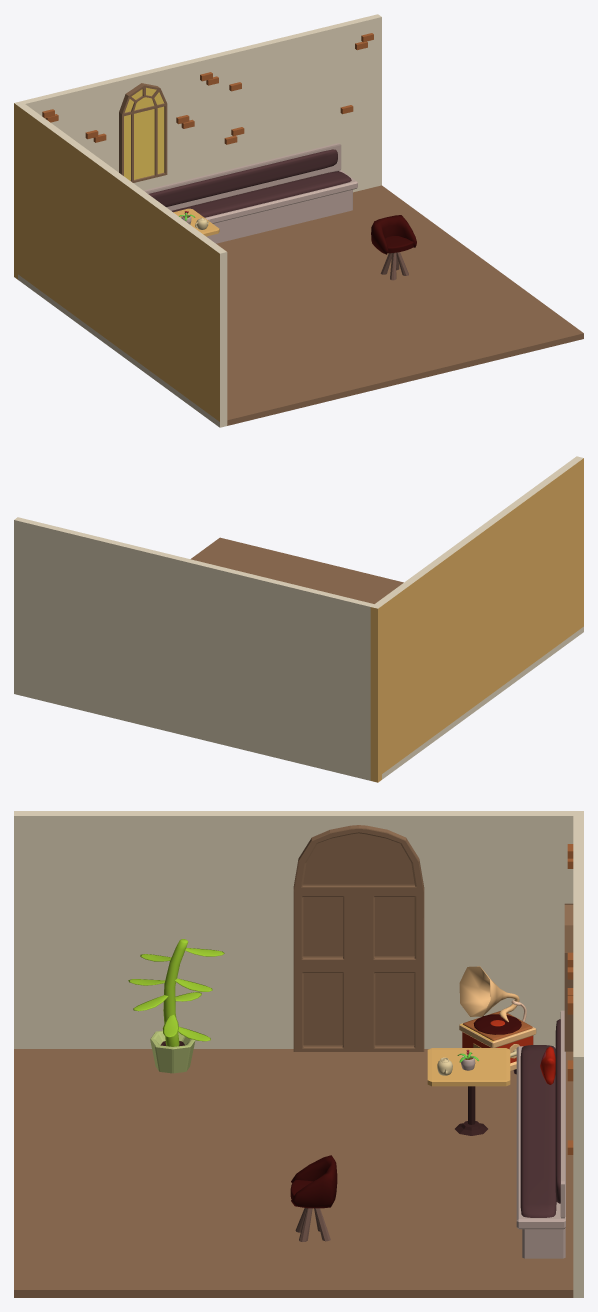
File: DinningRoom.fbx
3 views of the same model, one above another, from view 1: azimuth 30°, elevation 25°; view 2: azimuth 150°, elevation 25°; view 3: azimuth 270°, elevation 25° (orthographic). The views are drawn at different scales.
Visible parts, largest first — view 1: Walls_Restaurant02, Sofa01, Window01, Chair03; view 2: Walls_Restaurant02; view 3: Walls_Restaurant02, Door01, Sofa01, Gramophone01, FlowerVase02, Table01, Chair03, Window01.
Part boxes in pixels (x1=…): Walls_Restaurant02: x1=14, y1=14, x2=583, y2=427; Sofa01: x1=144, y1=143, x2=357, y2=243; Window01: x1=119, y1=83, x2=167, y2=182; Chair03: x1=371, y1=215, x2=416, y2=280; Walls_Restaurant02: x1=14, y1=456, x2=583, y2=782; Walls_Restaurant02: x1=14, y1=811, x2=583, y2=1297; Door01: x1=293, y1=825, x2=424, y2=1051; Sofa01: x1=516, y1=1010, x2=565, y2=1258; Gramophone01: x1=459, y1=966, x2=536, y2=1074; FlowerVase02: x1=128, y1=939, x2=224, y2=1073; Table01: x1=427, y1=1048, x2=510, y2=1135; Chair03: x1=290, y1=1155, x2=337, y2=1241; Window01: x1=564, y1=903, x2=573, y2=1051.
Bounding box in the file's own units: 5.1 × 2.33 × 5.
